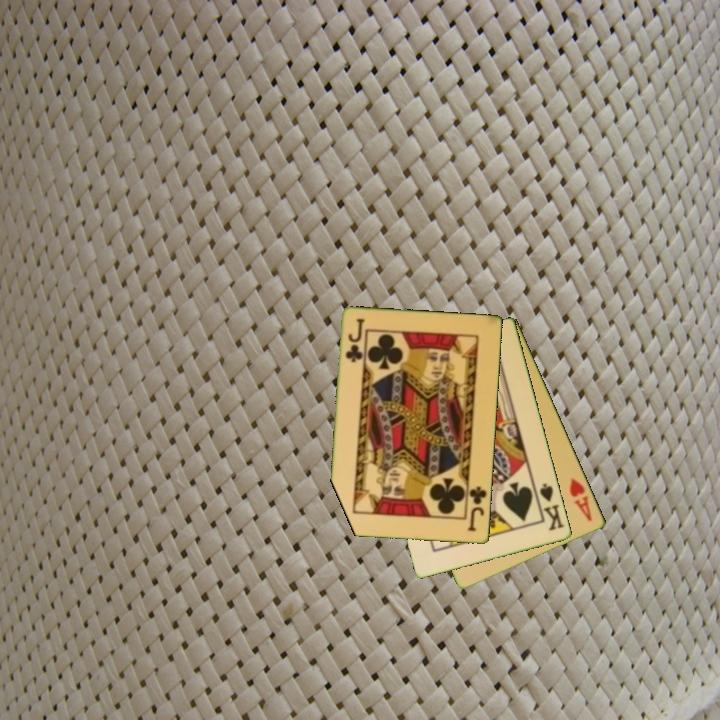Ah: (566, 475, 595, 524)
Jc: (465, 480, 490, 534), (342, 315, 367, 365)
Ks: (532, 480, 567, 534)
